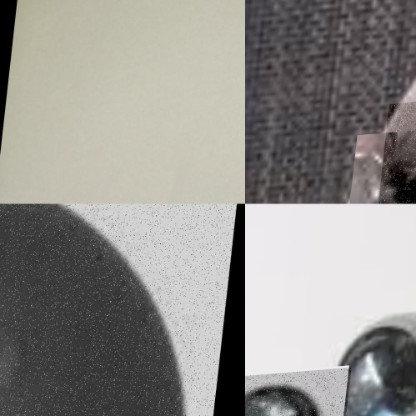ironball: (0, 203, 245, 415), (329, 306, 415, 415), (245, 371, 355, 415)
